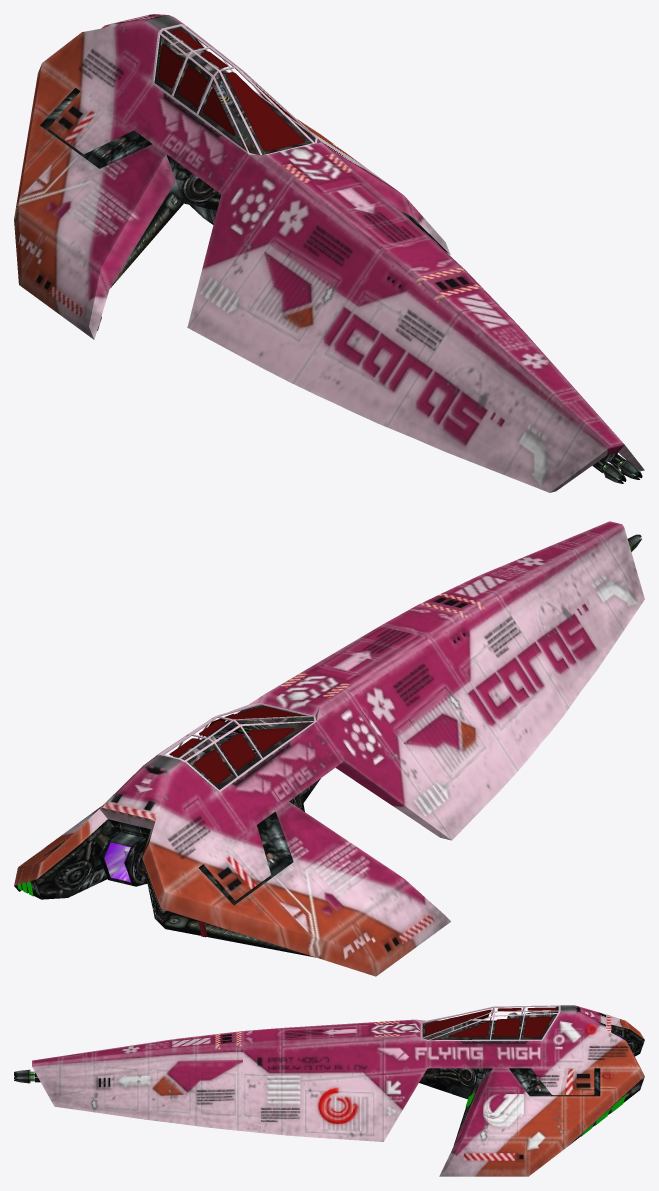
The model's file is icaros.obj.
The picture shows the model from 3 angles, top to bottom: view 1: azimuth 30°, elevation 25°; view 2: azimuth 150°, elevation 25°; view 3: azimuth 270°, elevation 25°; orthographic projection. The views are drawn at different scales.
Visible parts, largest first — view 1: Icaras_1; view 2: Icaras_1; view 3: Icaras_1.
Part boxes in pixels (x1,y1,x2,y2): Icaras_1: (14, 14, 644, 492); Icaras_1: (14, 521, 644, 976); Icaras_1: (14, 1005, 644, 1176).
Bounding box in the file's own units: 0.6765 × 0.3582 × 1.75.
